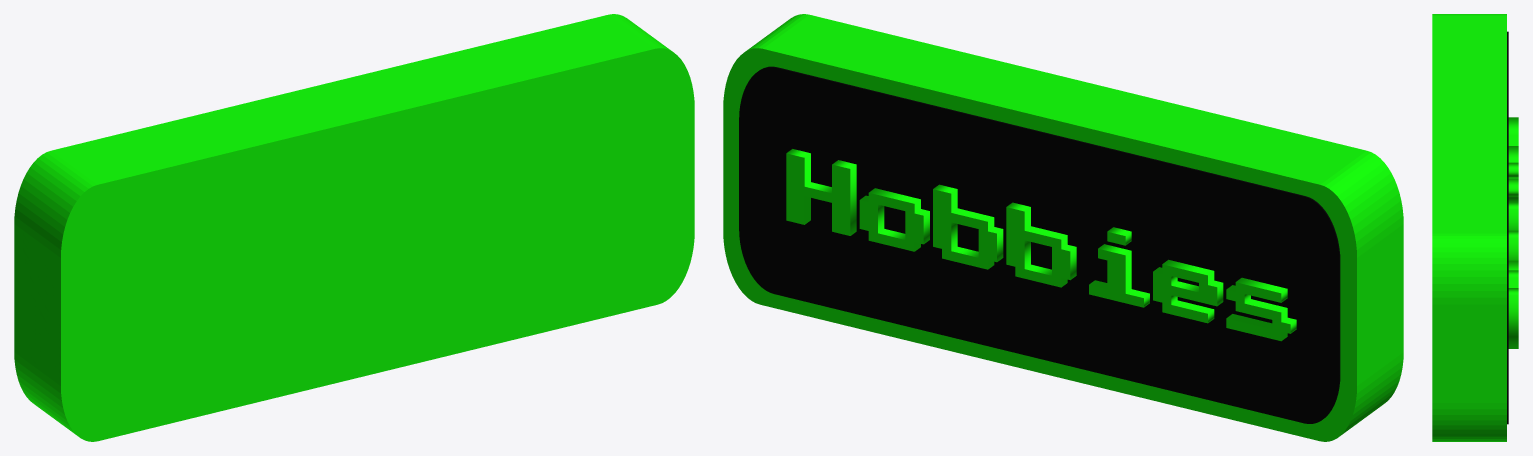
The model's file is btn-hobbies.glb.
3 views of the same model, side by side, from view 1: azimuth 30°, elevation 25°; view 2: azimuth 150°, elevation 25°; view 3: azimuth 270°, elevation 25° (orthographic). The views are drawn at different scales.
Parts seen in each view (by area): view 1: Cube.003; view 2: Cube.002, Cube.003, Text.001; view 3: Cube.003, Text.001, Cube.002.
Part boxes in pixels (x1,y1,x2,y2): Cube.003: (14,14,694,441); Cube.002: (739,66,1340,423); Cube.003: (723,14,1403,441); Text.001: (786,149,1296,341); Cube.003: (1432,14,1506,441); Text.001: (1508,117,1518,348); Cube.002: (1507,31,1508,424).
Size of the model in its own units: 5.85 by 2.26 by 0.8594.
